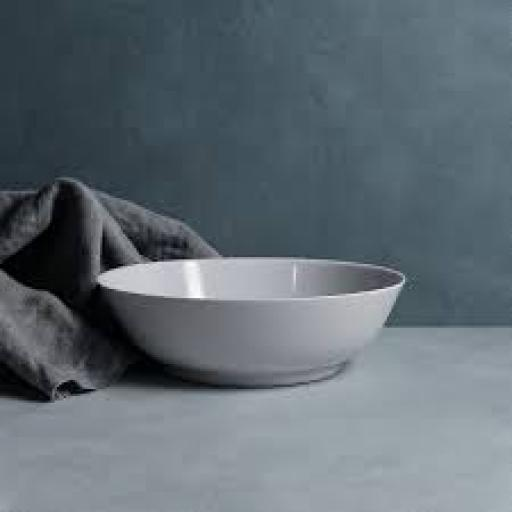Bowl: (100, 257, 403, 387)
